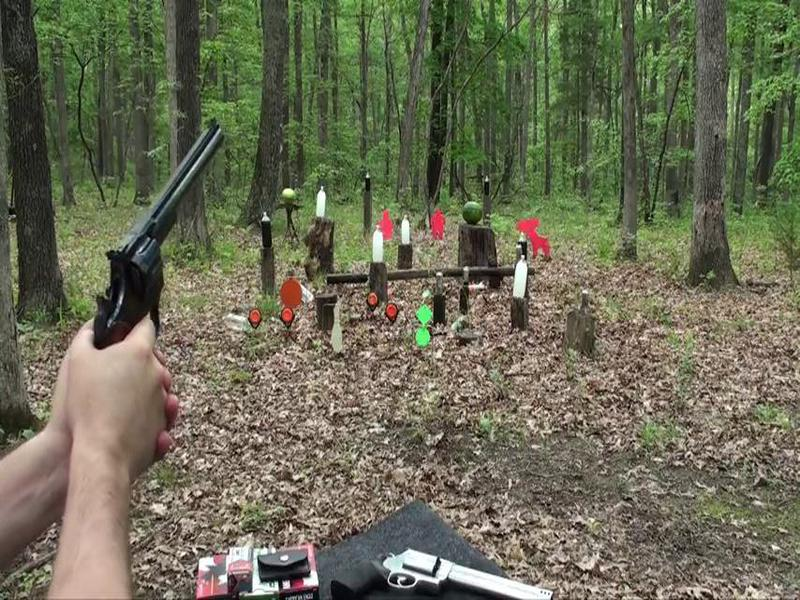Revolver: (84, 108, 241, 384)
